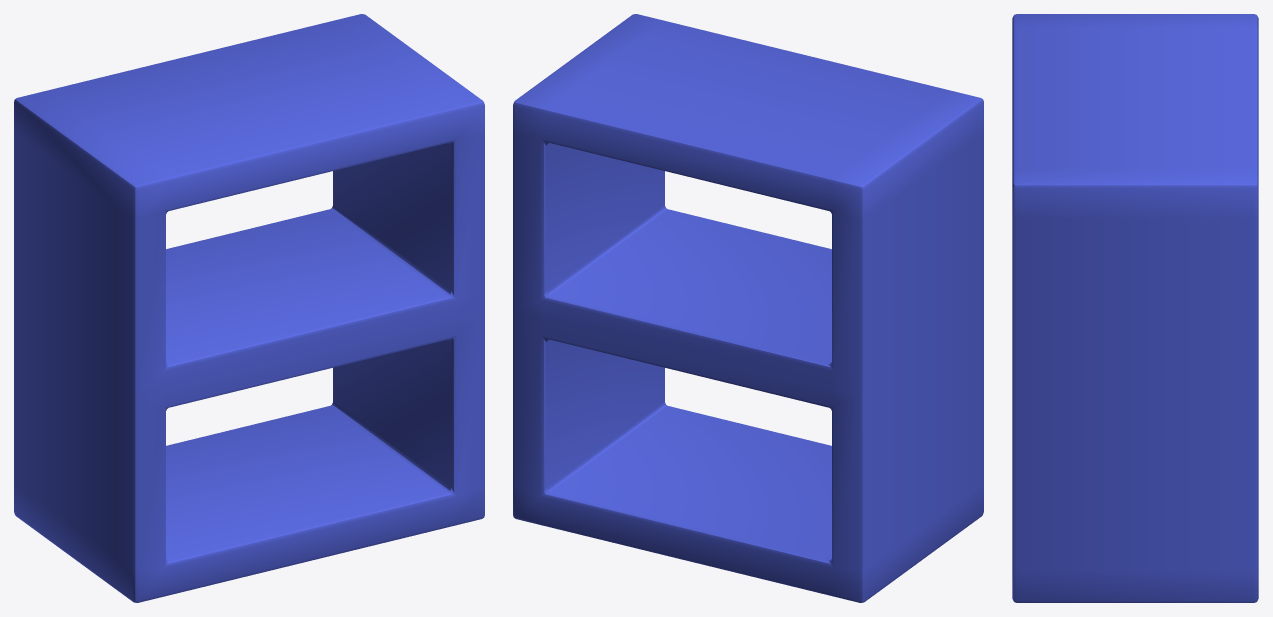
File: Stand03.fbx
3 views of the same model, side by side, from view 1: azimuth 30°, elevation 25°; view 2: azimuth 150°, elevation 25°; view 3: azimuth 270°, elevation 25° (orthographic).
Visible parts, largest first — view 1: Plane.003; view 2: Plane.003; view 3: Plane.003.
Boxes of the visible parts, x1=… form: Plane.003: x1=14, y1=14, x2=484, y2=602; Plane.003: x1=513, y1=14, x2=983, y2=602; Plane.003: x1=1012, y1=14, x2=1258, y2=602.
Size of the model in its own units: 278 by 316 by 168.
